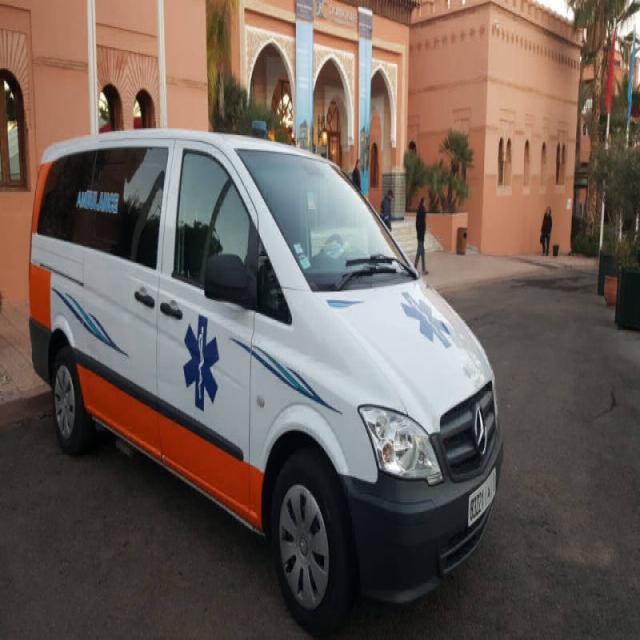ambulance: (31, 125, 501, 622)
